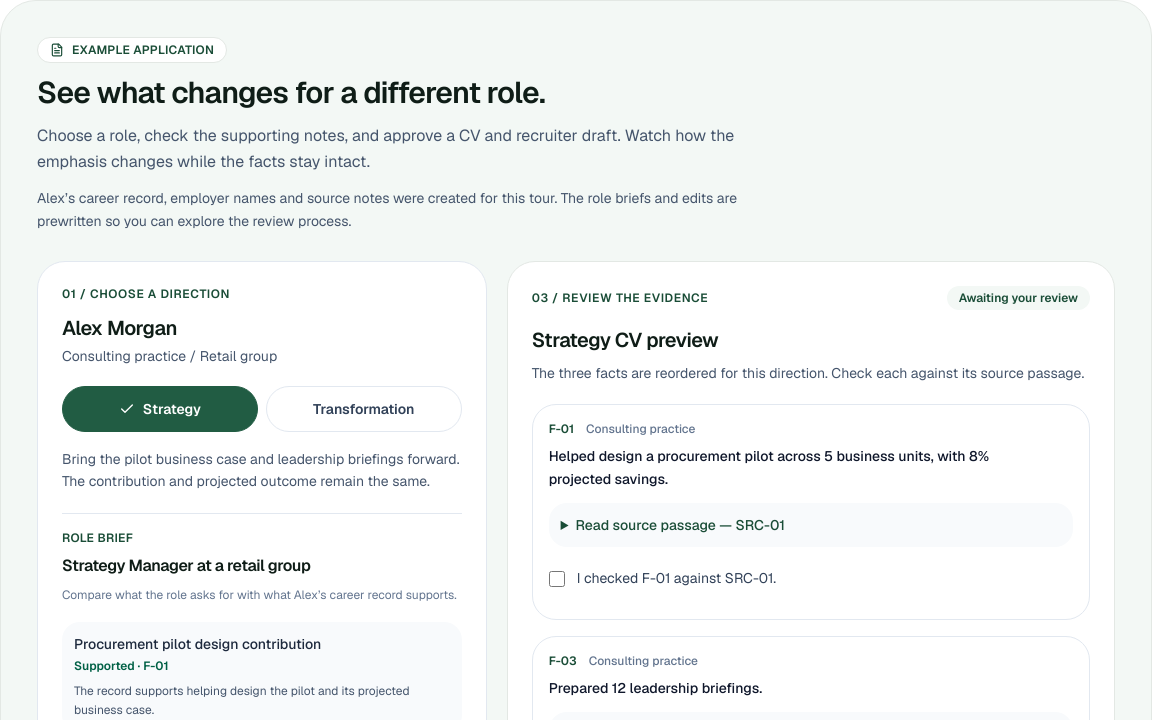
Test case: application product tour › shows source-linked wording and a rejected exaggerated edit with reasons
The image size is (1152, 720).
What coordinates should you click on to do the following:
click the heading "Read source passage — SRC-01"
I would click on:
 (680, 525)
Its box is x1=576 y1=516 x2=785 y2=534.
(page scrolled)
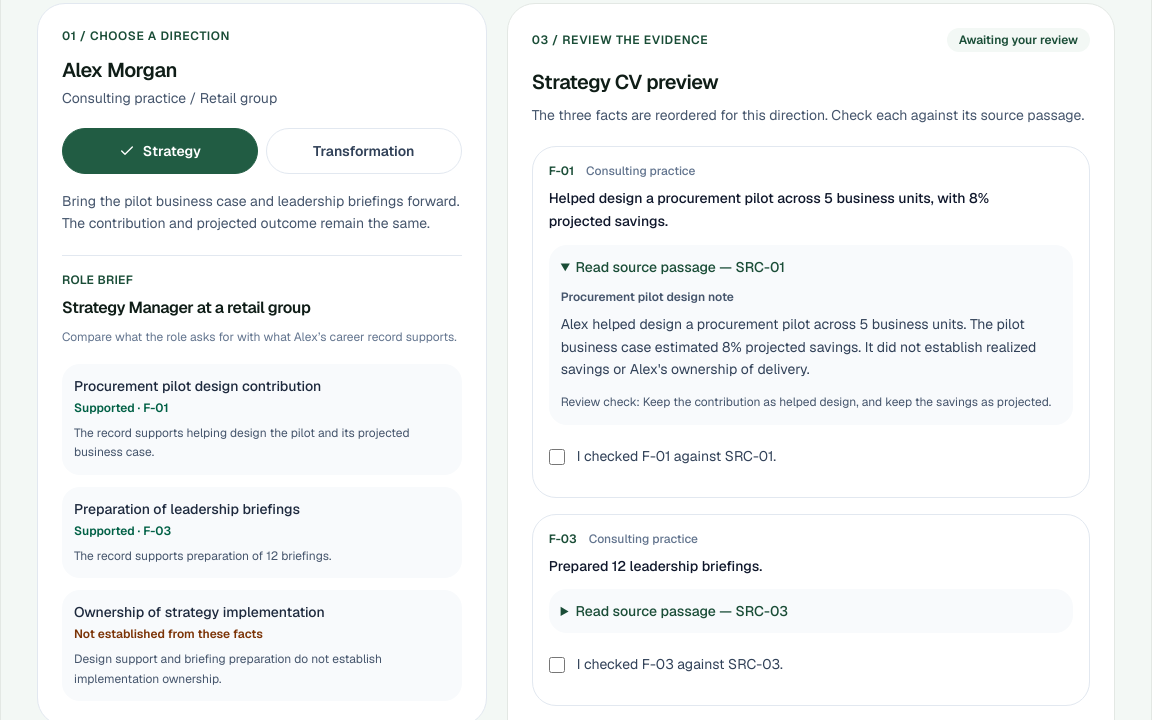
Expected: the checkbox labelled "I checked F-01 against SRC-01." is not checked, x1=549 y1=448 x2=565 y2=464
Expected: the text "It did not establish realized savings" is shown, x1=561 y1=315 x2=1036 y2=378
